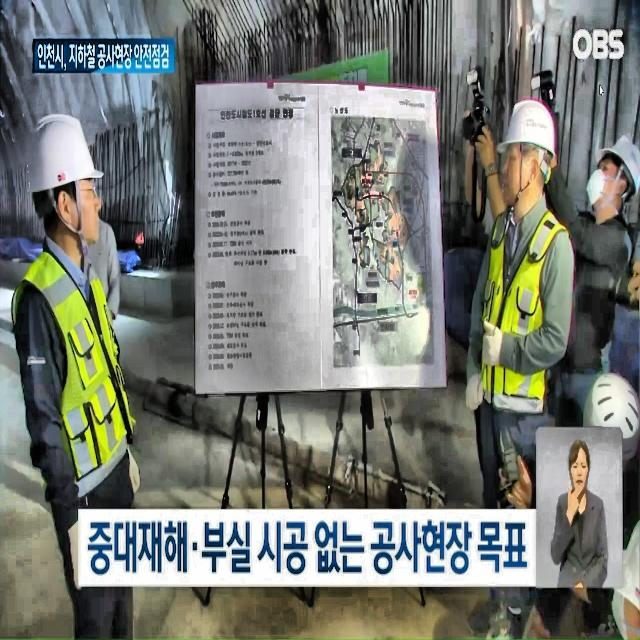safety_helmet: (492, 86, 580, 181), (22, 110, 106, 200), (585, 370, 640, 460), (598, 129, 640, 194)
safety_jacket: (468, 200, 602, 466), (17, 255, 146, 509)
